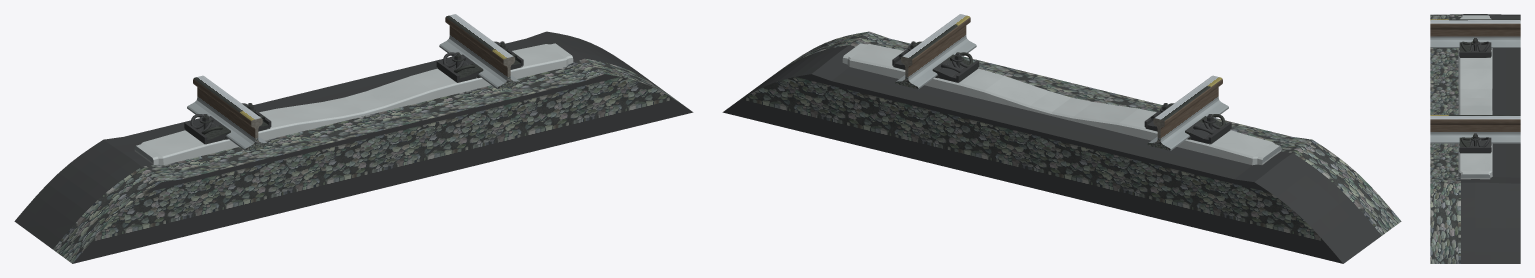
The model's file is rail_high.obj.
3 views of the same model, side by side, from view 1: azimuth 30°, elevation 25°; view 2: azimuth 150°, elevation 25°; view 3: azimuth 270°, elevation 25° (orthographic). The views are drawn at different scales.
Visible parts, largest first — view 1: ballast, sleeper, rail_right, rail_left, fastener_right, fastener_left; view 2: ballast, sleeper, rail_right, rail_left, fastener_right, fastener_left; view 3: ballast, sleeper, rail_left, rail_right, fastener_right, fastener_left.
Boxes of the visible parts, left/top/right/bottom form: ballast: left=14, top=31, right=693, bottom=263; sleeper: left=134, top=43, right=573, bottom=165; rail_right: left=439, top=14, right=519, bottom=88; rail_left: left=187, top=75, right=266, bottom=150; fastener_right: left=436, top=41, right=523, bottom=82; fastener_left: left=184, top=103, right=271, bottom=144; ballast: left=722, top=31, right=1401, bottom=263; sleeper: left=842, top=43, right=1281, bottom=165; rail_right: left=896, top=14, right=976, bottom=88; rail_left: left=1149, top=75, right=1228, bottom=150; fastener_right: left=892, top=41, right=979, bottom=82; fastener_left: left=1144, top=103, right=1231, bottom=144; ballast: left=1430, top=14, right=1520, bottom=263; sleeper: left=1458, top=15, right=1492, bottom=179; rail_left: left=1430, top=19, right=1520, bottom=47; rail_right: left=1430, top=115, right=1520, bottom=143; fastener_right: left=1459, top=133, right=1491, bottom=153; fastener_left: left=1459, top=37, right=1491, bottom=57.
Size of the model in its own units: 3.7 by 0.5683 by 0.6.
